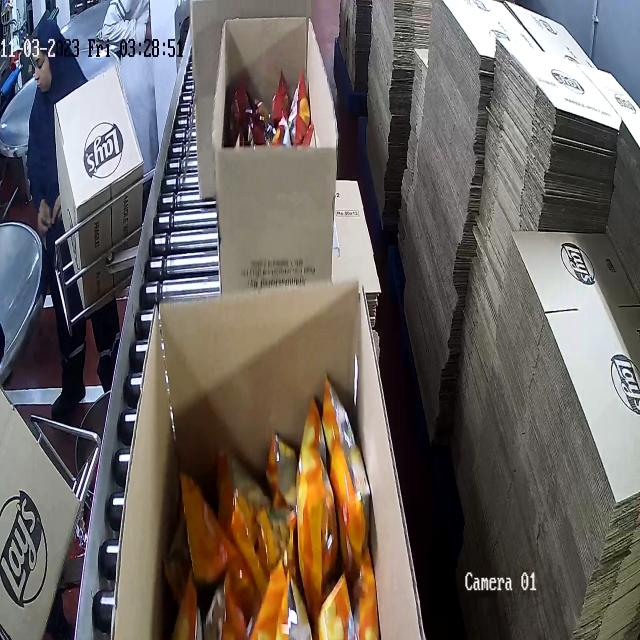FRENCH_CHEESE: (171, 373, 380, 638)
